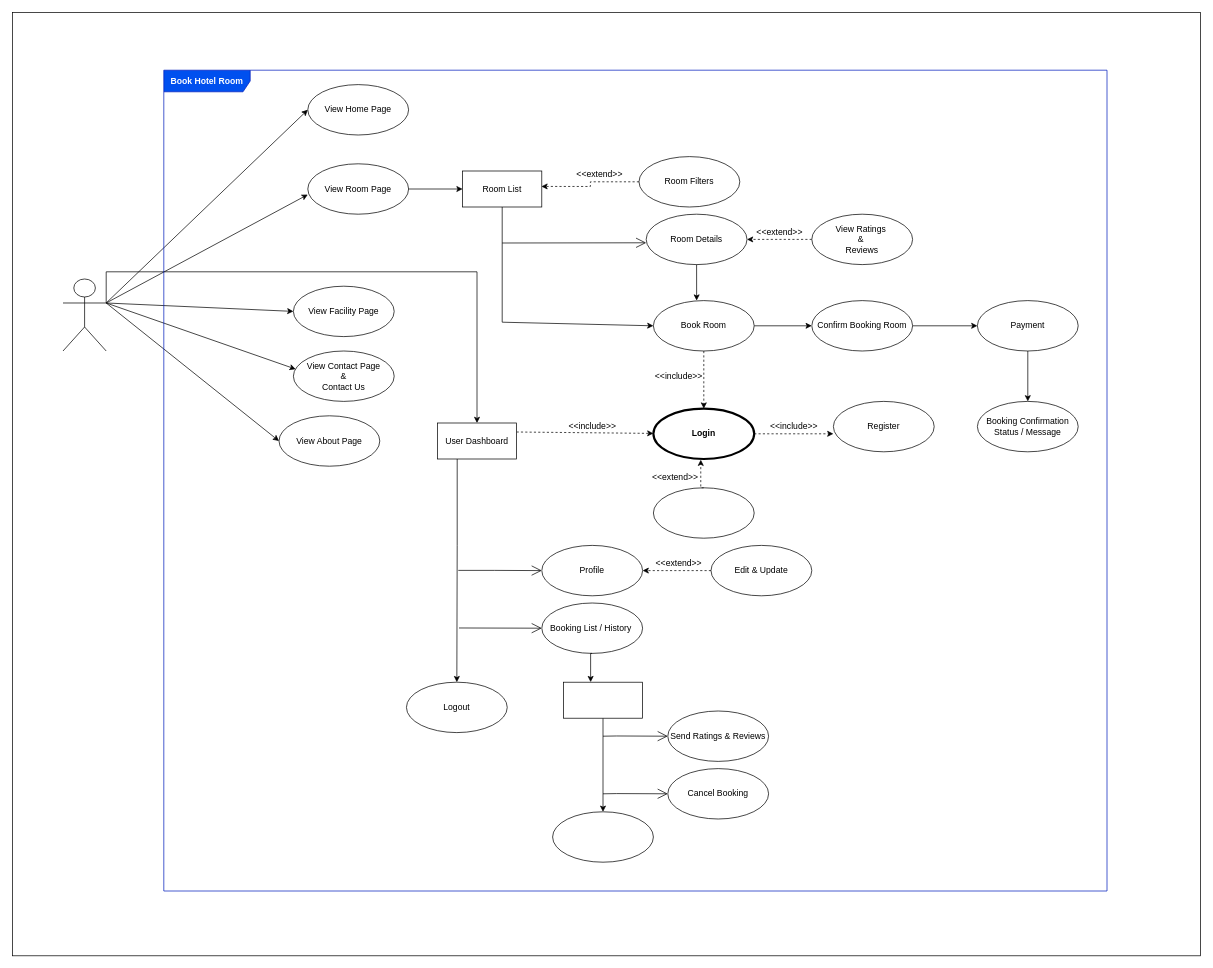
Image size: 1213x968. Some labels were removed from this diagram. The shapes that lost their labels are listed below. From the top down, each one's centre as x and y in pixels, then its label:
(x=84, y=314): Customer
(x=703, y=512): Forget Password
(x=603, y=699): Booked Room
(x=602, y=836): Download Invoice
